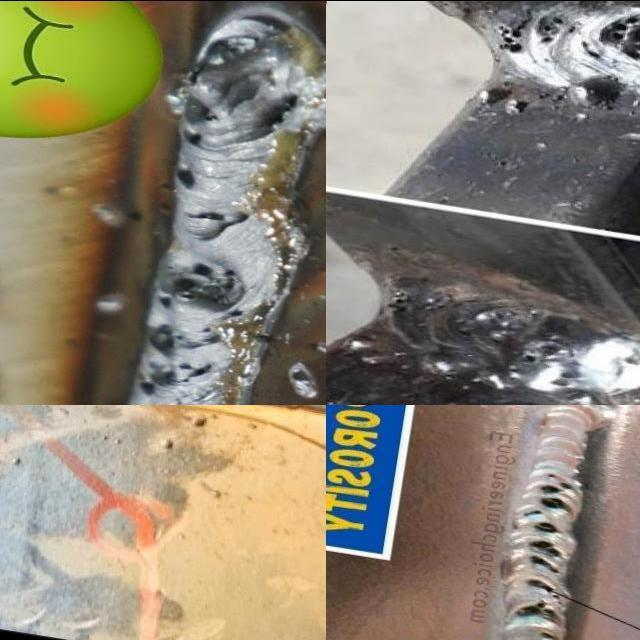defect: (156, 257, 248, 324), (137, 318, 215, 396), (185, 32, 262, 90), (494, 12, 570, 56), (591, 7, 640, 61), (522, 479, 575, 519), (185, 198, 252, 225), (259, 90, 300, 131), (516, 337, 575, 363), (512, 599, 560, 621), (522, 576, 562, 602), (168, 164, 202, 191), (544, 367, 586, 388), (183, 128, 210, 150), (529, 540, 562, 557), (529, 555, 560, 573), (198, 103, 222, 125), (532, 520, 561, 533), (538, 629, 558, 640), (547, 473, 557, 478)
